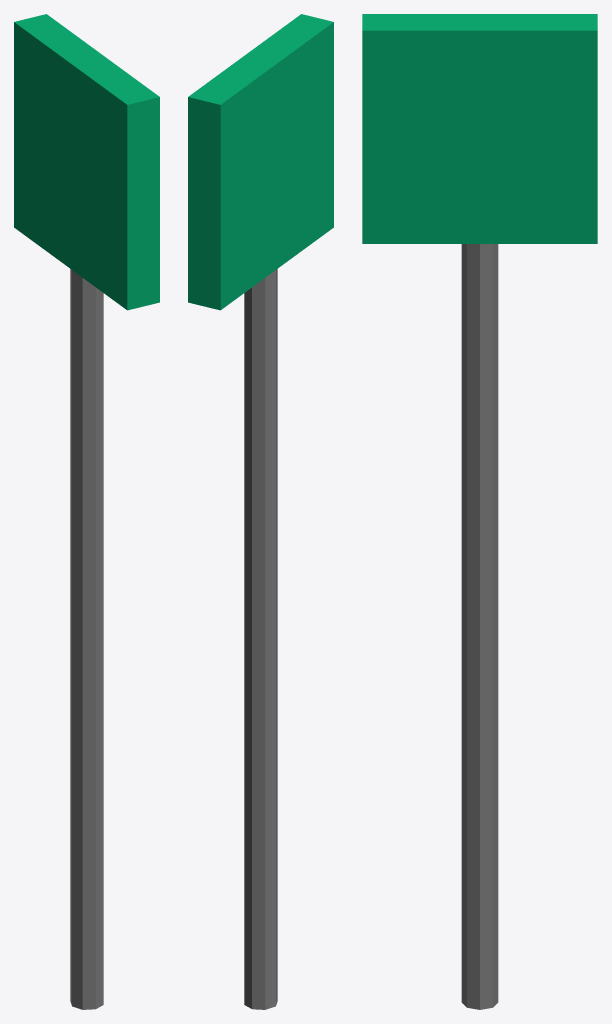
File: switch_sign.fbx
The picture shows the model from 3 angles, left to right: view 1: azimuth 30°, elevation 25°; view 2: azimuth 150°, elevation 25°; view 3: azimuth 270°, elevation 25°; orthographic projection. The views are drawn at different scales.
Visible parts, largest first — view 1: Cube; view 2: Cube; view 3: Cube.
Part boxes in pixels (x1,y1,x2,y2): Cube: (14,14,159,1009); Cube: (188,14,333,1009); Cube: (362,14,597,1009).
Bounding box in the file's own units: 9.36 × 259 × 56.38.
